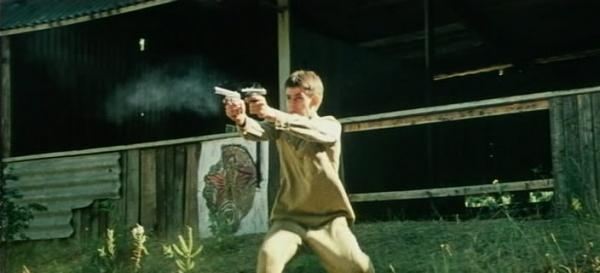Gun: (212, 87, 240, 104), (241, 87, 266, 101)
